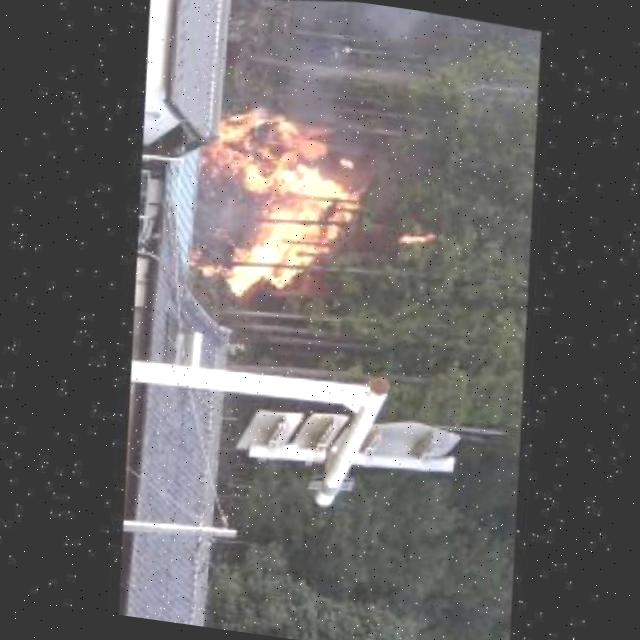fire: (158, 80, 390, 324), (391, 224, 433, 248)
